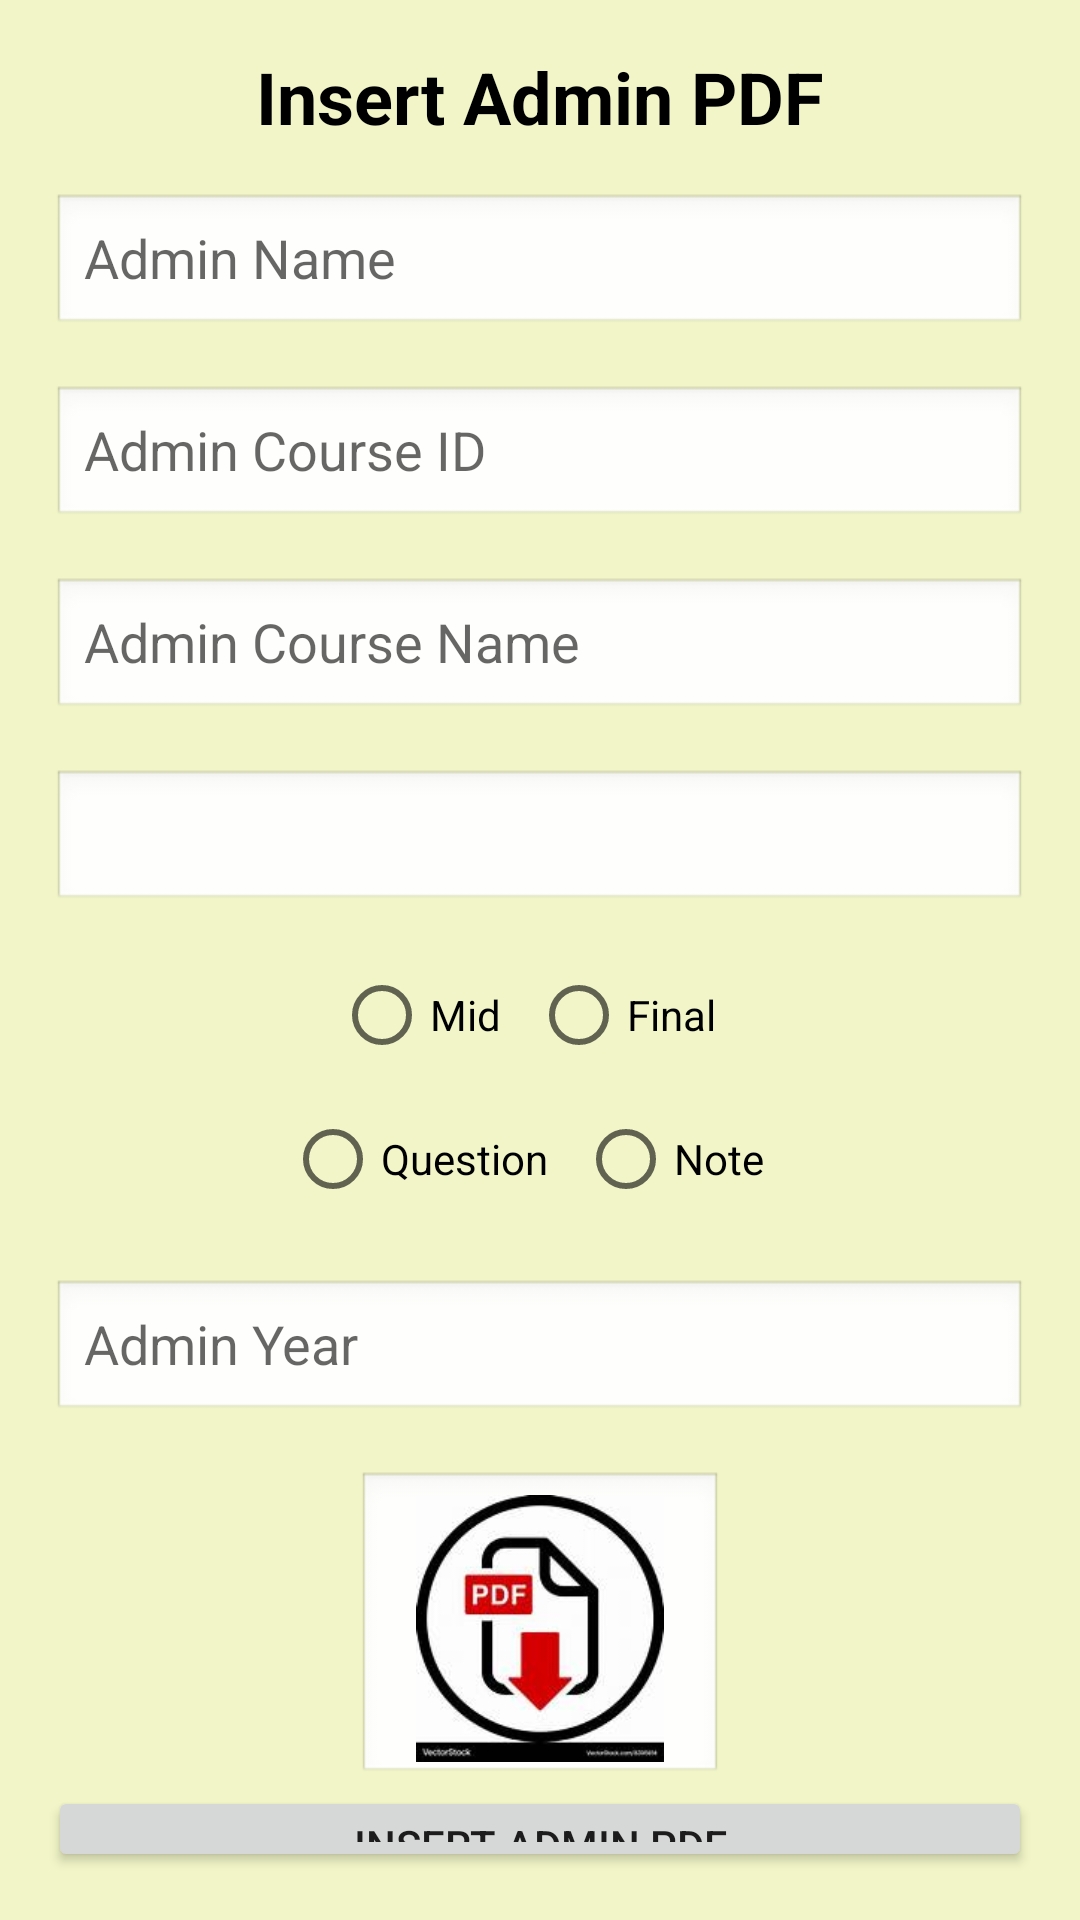

Named icons in this screenshot (1080 × 1920) and their bounding boxes, (x1, y1, x2, y2):
select pdf: (363, 1473, 717, 1768)
